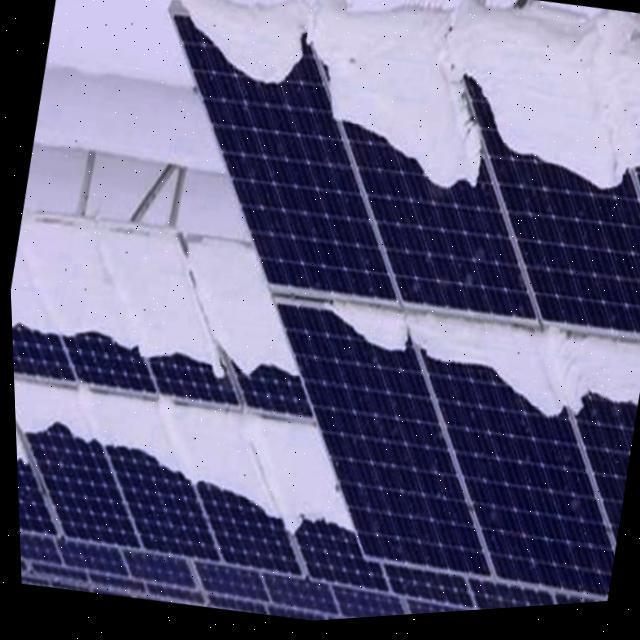Anomaly Solar Panel: (87, 2, 640, 608), (8, 225, 427, 595)
Snow: (158, 2, 640, 224), (11, 380, 370, 549), (8, 224, 240, 386), (388, 319, 640, 441), (180, 226, 293, 402), (312, 306, 408, 362)
